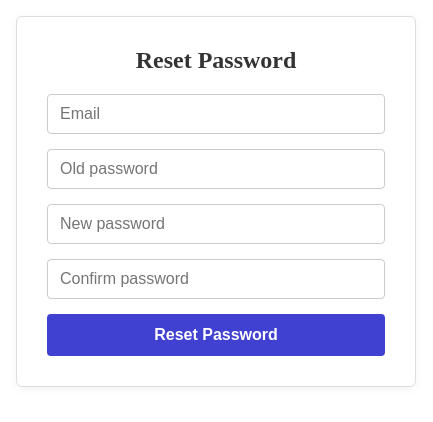
Test: Auth Components › ResetPassword Component › shows an error and does not reset when passwords do not match
This screenshot has width=433, height=422.
Step 1. Type "john@example.com" into the field labelled "Email" → (216, 114), box x1=47 y1=94 x2=385 y2=134
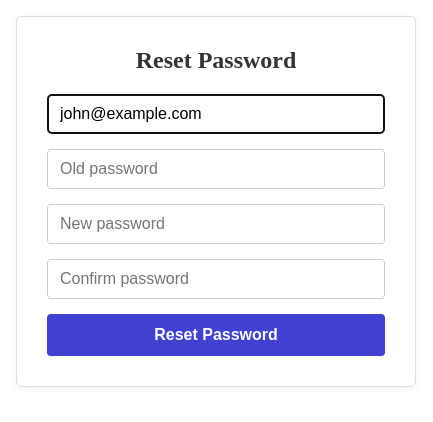
Step 2. Type "old-password" into the password field labelled "Old password" → (216, 169), box x1=47 y1=149 x2=385 y2=189
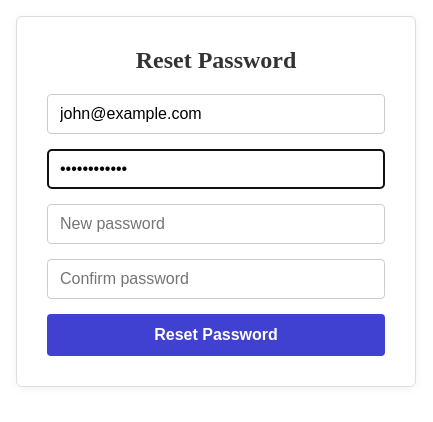
Step 3. Type "new-password" into the field labelled "New password" → (216, 224), box x1=47 y1=204 x2=385 y2=244
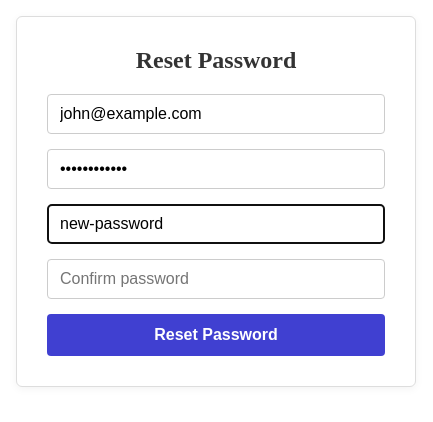
Step 4. Type "different-password" into the field labelled "Confirm password" → (216, 279), box x1=47 y1=259 x2=385 y2=299
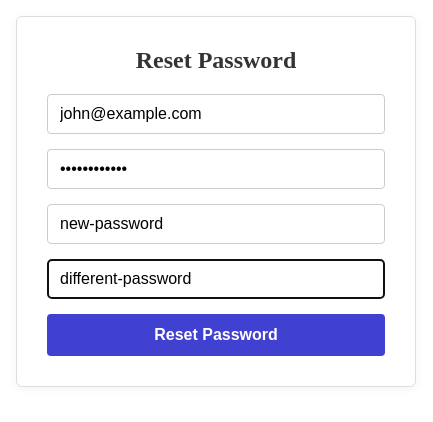
Step 5. Click the button "Reset Password" → (216, 335), box x1=47 y1=314 x2=385 y2=356
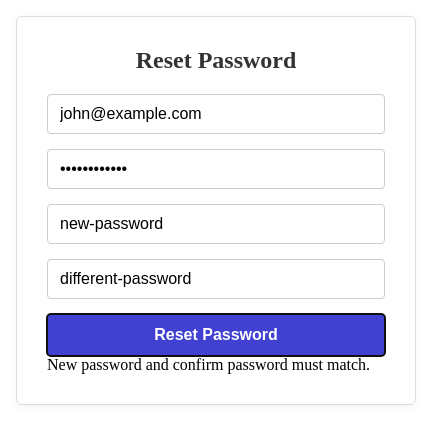
Now the message shows "must match", box x1=47 y1=356 x2=370 y2=373
